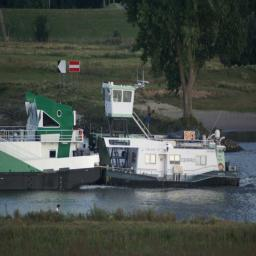tugboat: (83, 68, 245, 194)
